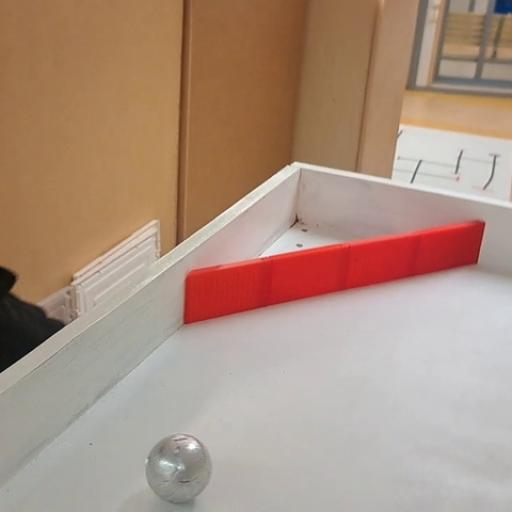alive: (143, 432, 214, 504)
